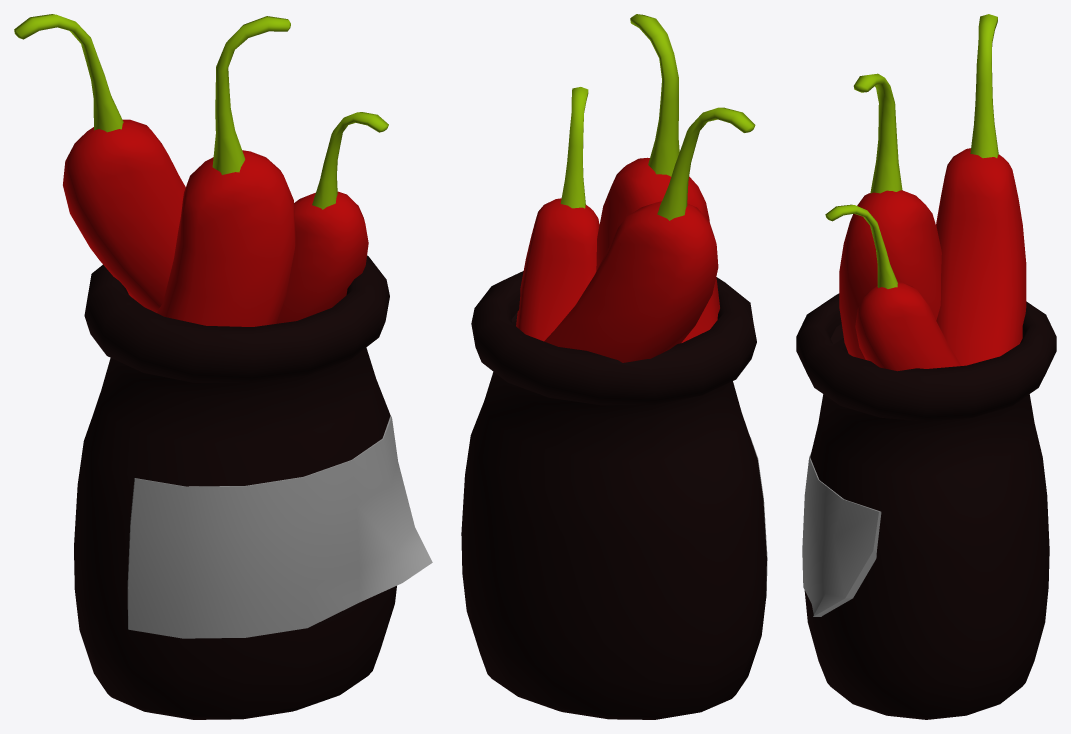
Rendered from SM_JalapenoJar.FBX.
The picture shows the model from 3 angles, left to right: view 1: azimuth 30°, elevation 25°; view 2: azimuth 150°, elevation 25°; view 3: azimuth 270°, elevation 25°; orthographic projection. The views are drawn at different scales.
Parts seen in each view (by area): view 1: Sm_jalapeno Jar; view 2: Sm_jalapeno Jar; view 3: Sm_jalapeno Jar.
Boxes of the visible parts, x1,y1,x2,y2 form: Sm_jalapeno Jar: (14,14,432,719); Sm_jalapeno Jar: (461,14,767,719); Sm_jalapeno Jar: (796,14,1056,719).
Bounding box in the file's own units: 75.8 × 148 × 58.58.
